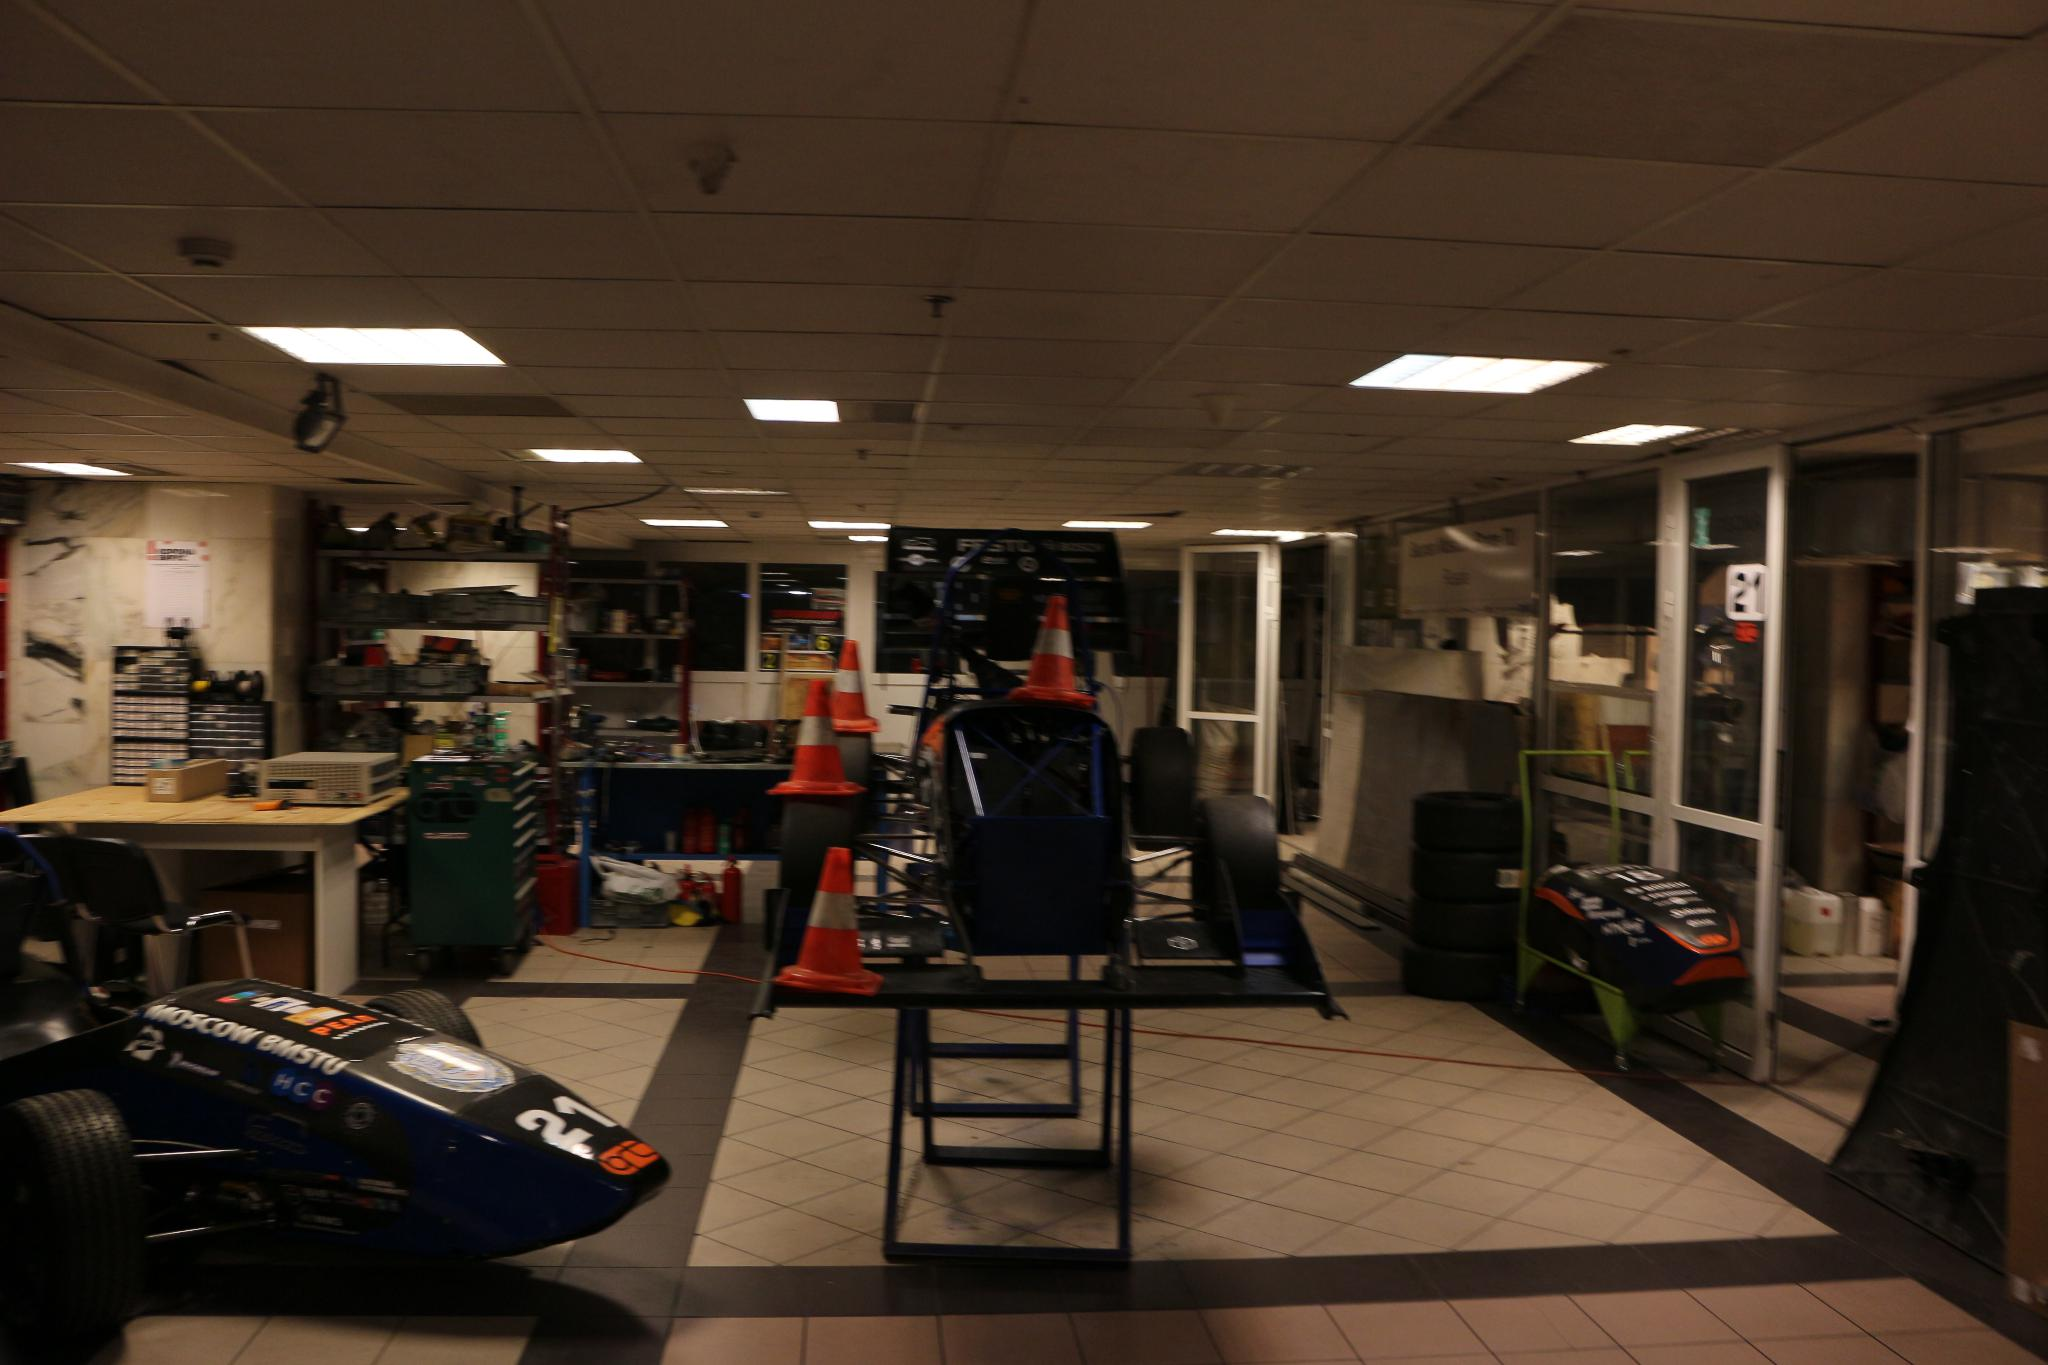Orange_Cone: (774, 836, 880, 996), (760, 672, 869, 798), (1002, 588, 1101, 707), (812, 635, 885, 731)
